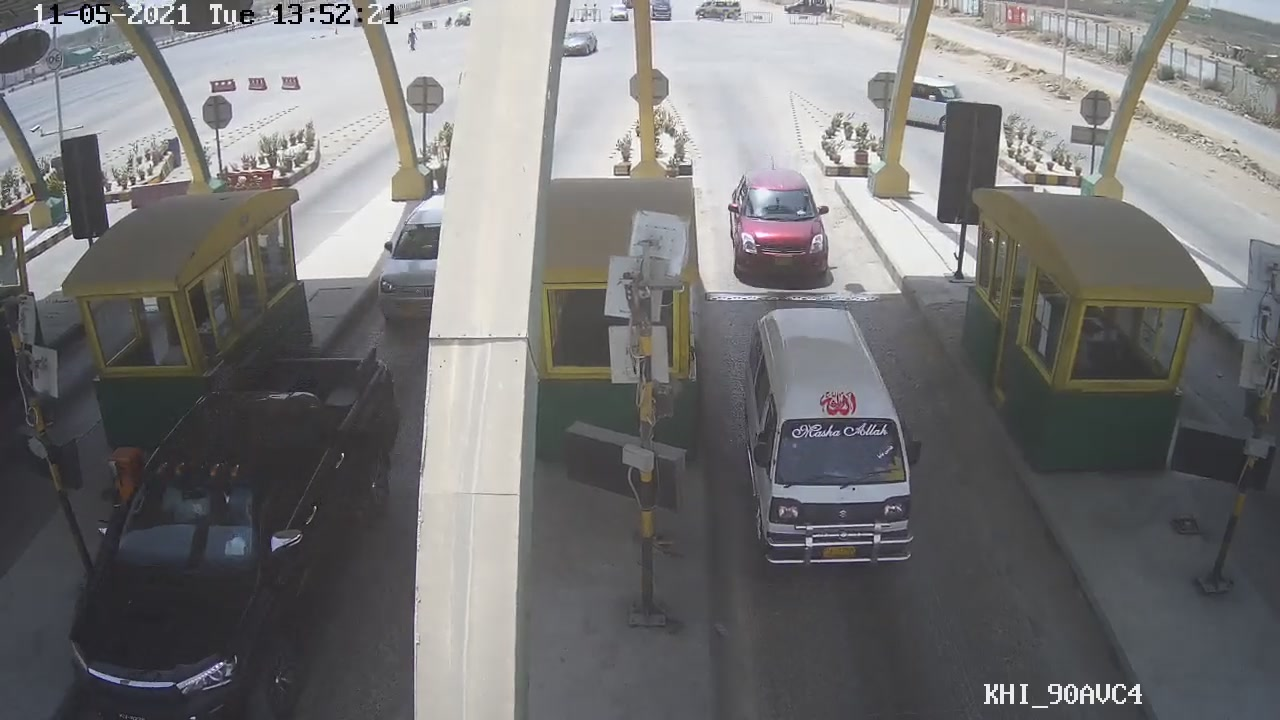F1: (736, 297, 924, 581), (721, 159, 839, 290)
